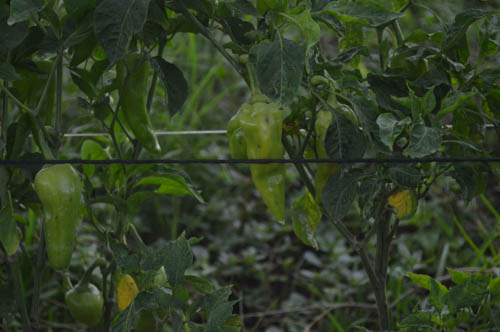ChiliPepper: (245, 102, 288, 222), (36, 165, 80, 274), (317, 109, 352, 203), (65, 289, 109, 324)
